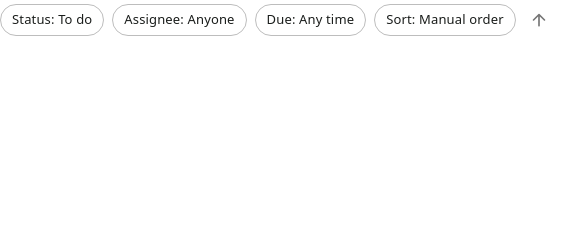
Test: FilterBar › offers unassigned beside the members
The image size is (563, 249).
Later steps or results of the test are not shown.
Click the button "Assignee: Anyone": (179, 20) [112,4,247,36]
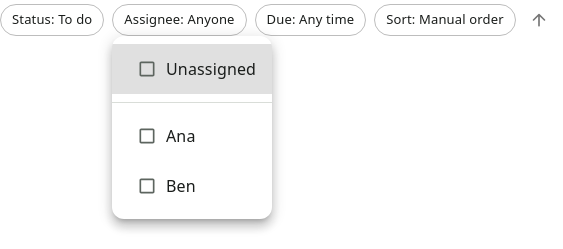
Now the menu item "Ana" is shown, box [137,125,196,147]
